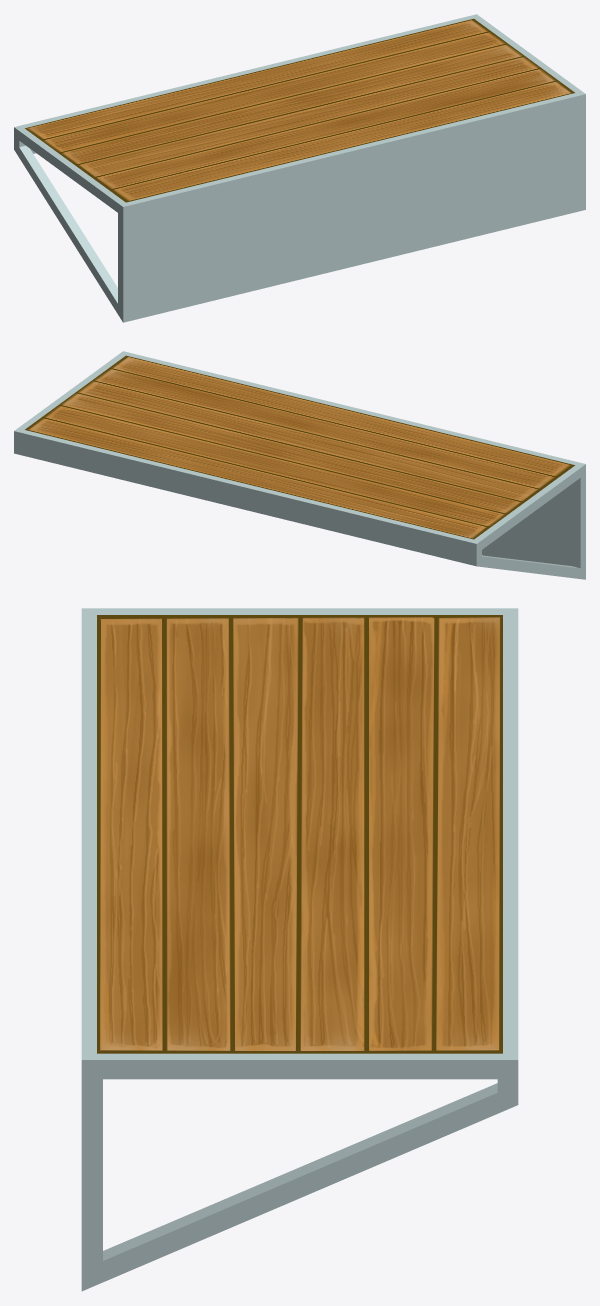
Rendered from WallPlatform.fbx.
3 views of the same model, one above another, from view 1: azimuth 30°, elevation 25°; view 2: azimuth 150°, elevation 25°; view 3: azimuth 270°, elevation 25° (orthographic). The views are drawn at different scales.
Parts seen in each view (by area): view 1: WallPlatform; view 2: WallPlatform; view 3: WallPlatform.
Boxes of the visible parts, box(x1,y1,x2,y2) form: WallPlatform: box(14, 14, 585, 322); WallPlatform: box(14, 351, 585, 579); WallPlatform: box(81, 608, 518, 1291).
Size of what is drawn, in the model's own units: 50.07 by 20.46 by 11.97.
